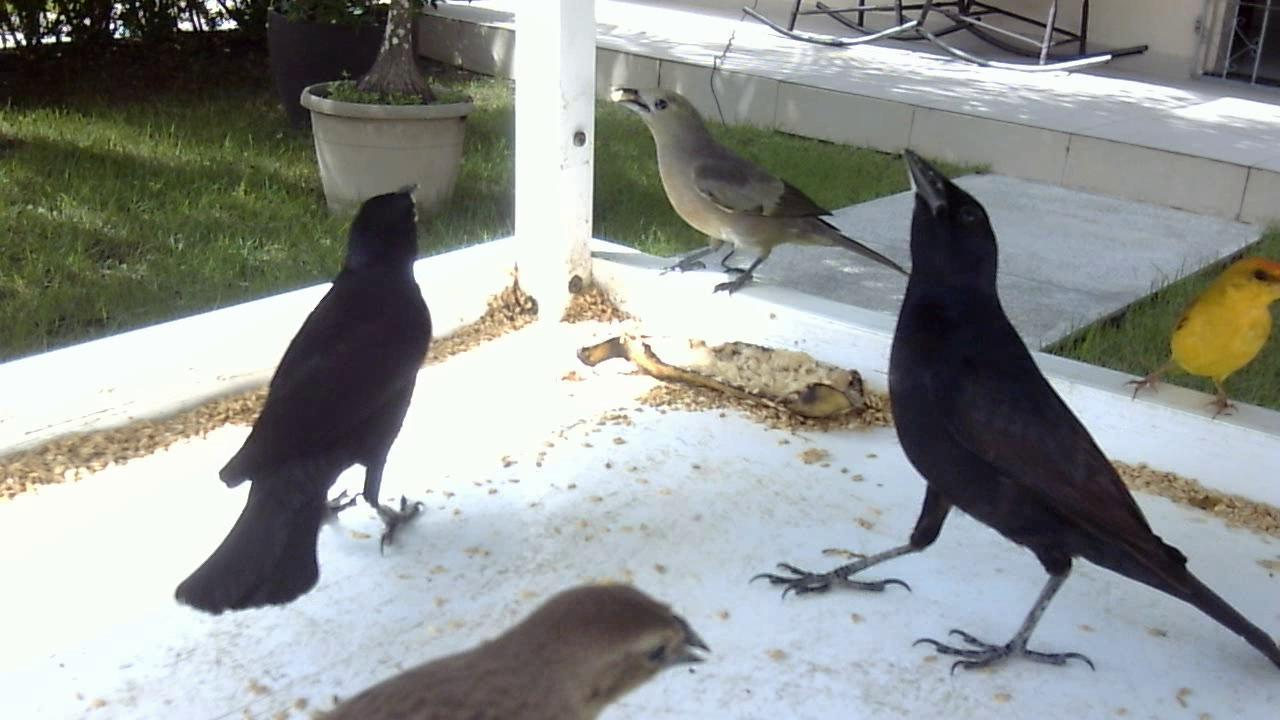canario_do_amazonas: (1116, 248, 1280, 426)
chupim: (748, 143, 1280, 685), (167, 178, 446, 614), (320, 576, 709, 716)
sanhaco_do_coqueiro: (597, 81, 904, 311)
